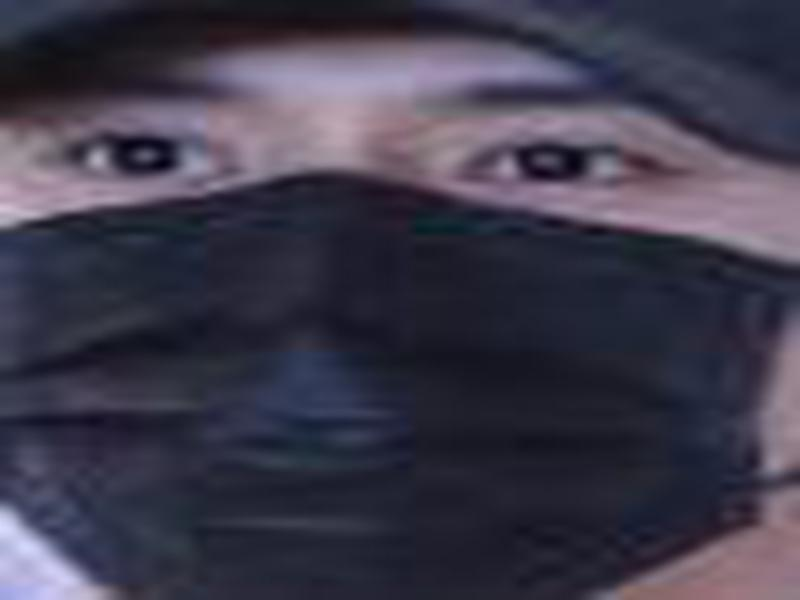with_mask: (1, 25, 795, 600)
